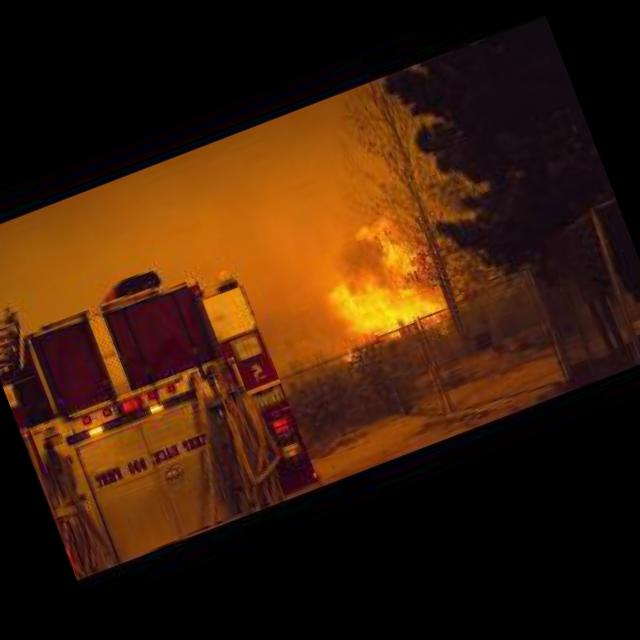fire: (294, 192, 458, 370)
